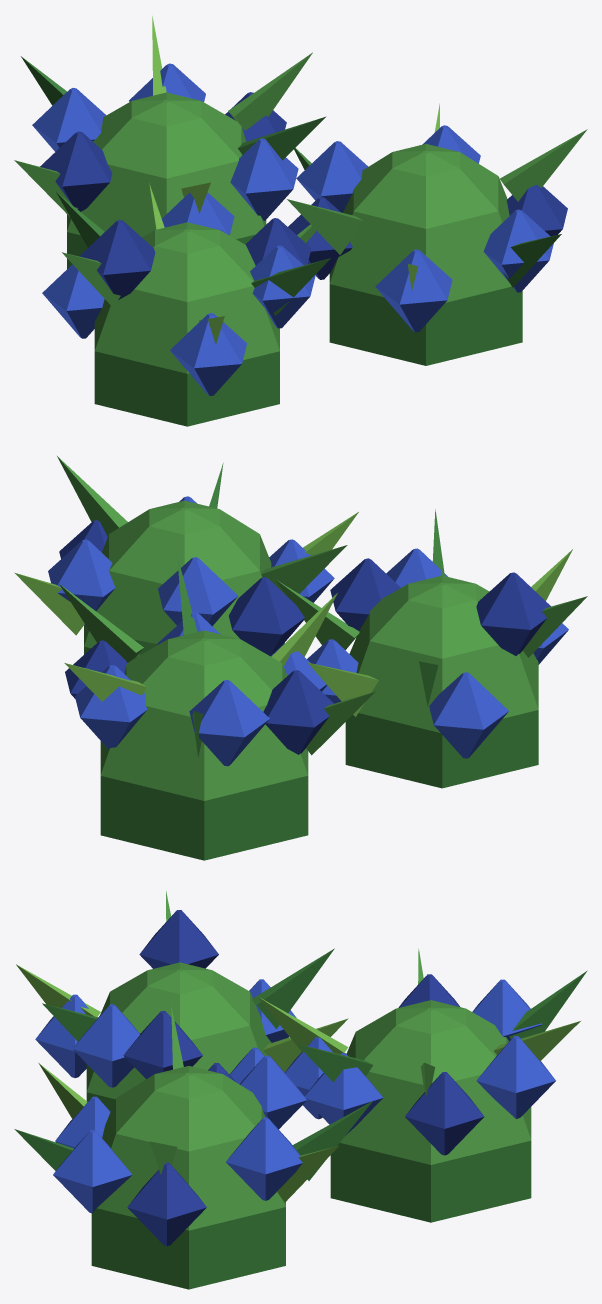
Rendered from bushberries-4.glb.
3 views of the same model, one above another, from view 1: azimuth 30°, elevation 25°; view 2: azimuth 150°, elevation 25°; view 3: azimuth 270°, elevation 25° (orthographic). The views are drawn at different scales.
Visible parts, largest first — view 1: bushberries-4; view 2: bushberries-4; view 3: bushberries-4.
Boxes of the visible parts, x1,y1,x2,y2 form: bushberries-4: (14, 16, 587, 426); bushberries-4: (14, 456, 587, 860); bushberries-4: (14, 891, 587, 1289).
Size of the model in its own units: 0.8616 by 0.2879 by 0.8203.
Materials: 1 (1 with a texture image).
